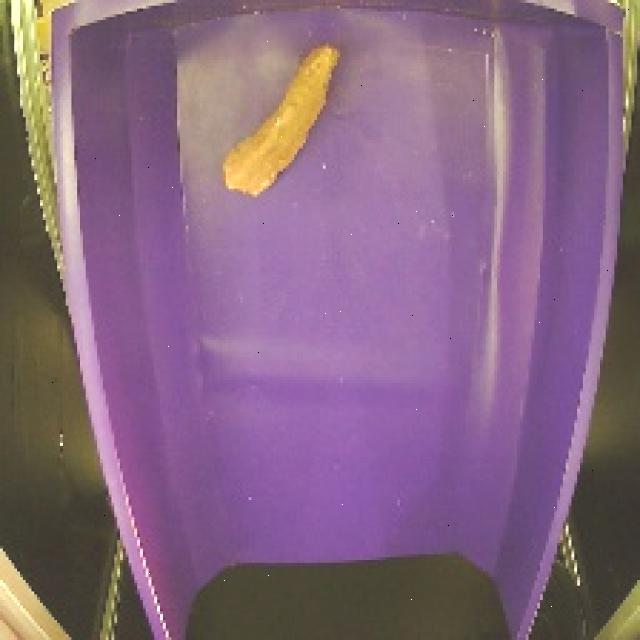brick: (211, 33, 354, 207)
